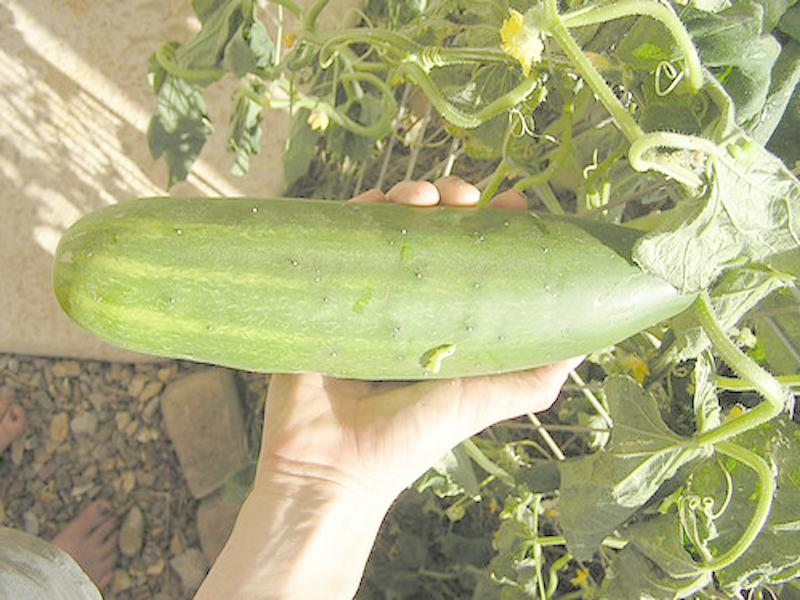Cucumber: (52, 195, 706, 378)
